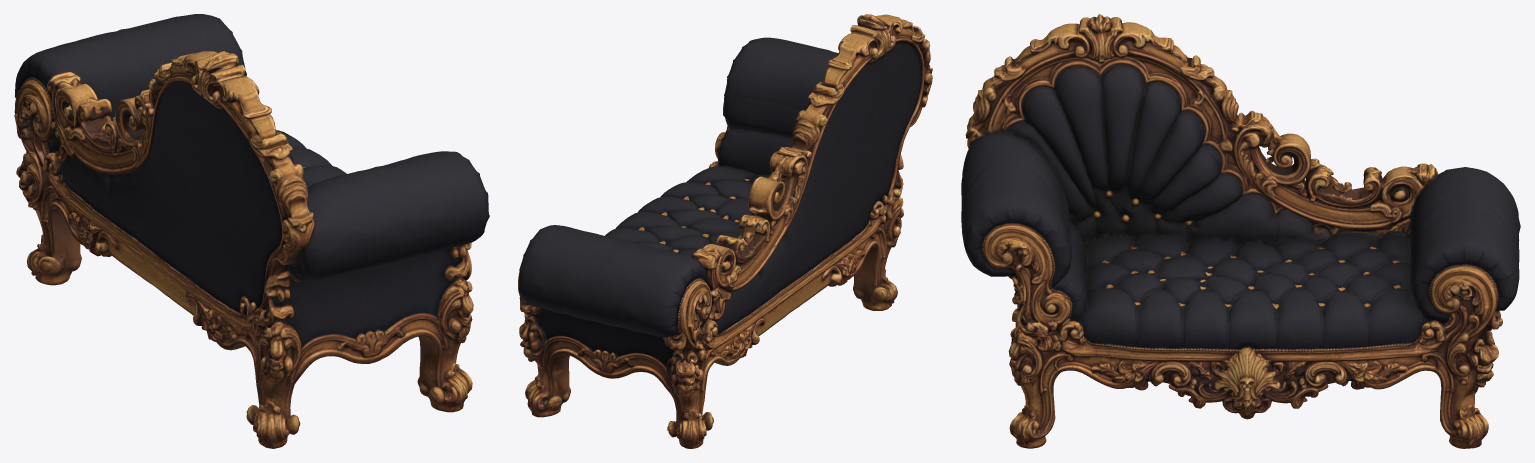
Rendered from ViewingChaise.glb.
3 renders of one model, left to right at view 1: azimuth 30°, elevation 25°; view 2: azimuth 150°, elevation 25°; view 3: azimuth 270°, elevation 25°, orthographic. The views are drawn at different scales.
Visible parts, largest first — view 1: tripo_node_f308ca58-31e6-4f82-b523-c3e20de76a6d; view 2: tripo_node_f308ca58-31e6-4f82-b523-c3e20de76a6d; view 3: tripo_node_f308ca58-31e6-4f82-b523-c3e20de76a6d.
Boxes of the visible parts, x1,y1,x2,y2 form: tripo_node_f308ca58-31e6-4f82-b523-c3e20de76a6d: (14,14,489,448); tripo_node_f308ca58-31e6-4f82-b523-c3e20de76a6d: (518,14,932,448); tripo_node_f308ca58-31e6-4f82-b523-c3e20de76a6d: (961,14,1520,448).
Size of the model in its own units: 0.4776 by 0.6788 by 1.
Materials: 1 (1 with a texture image).
